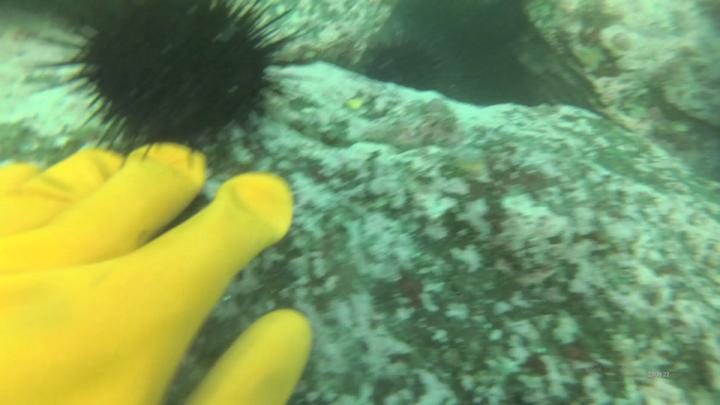echinus: (75, 2, 273, 152), (364, 38, 442, 94)
